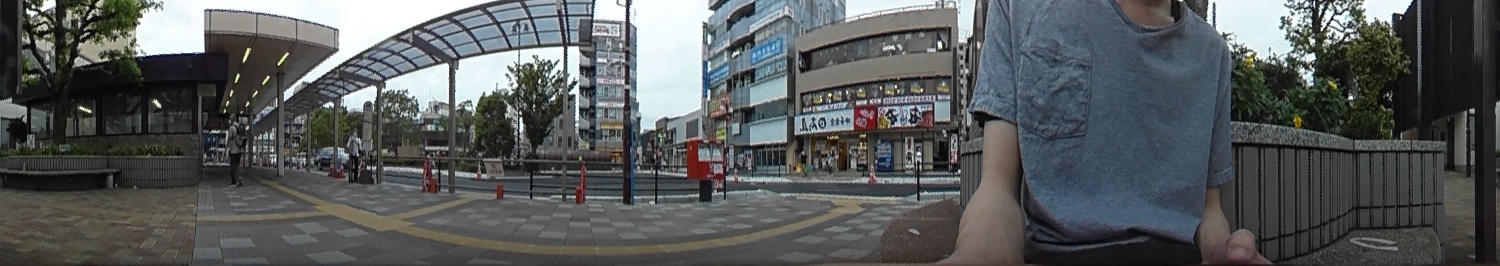person: (225, 111, 245, 189), (345, 127, 362, 185)
